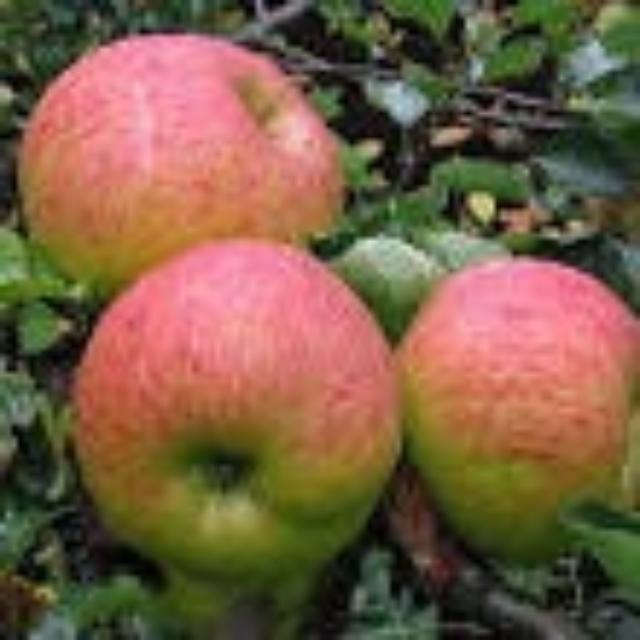Apple: (76, 240, 395, 607), (20, 36, 343, 291), (400, 259, 640, 559)
